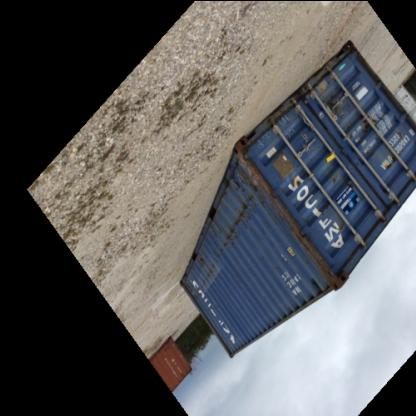Damage: (290, 226, 342, 286), (226, 180, 258, 250), (194, 254, 218, 292), (316, 96, 342, 119), (376, 152, 402, 174), (282, 172, 304, 192), (357, 116, 375, 132)
